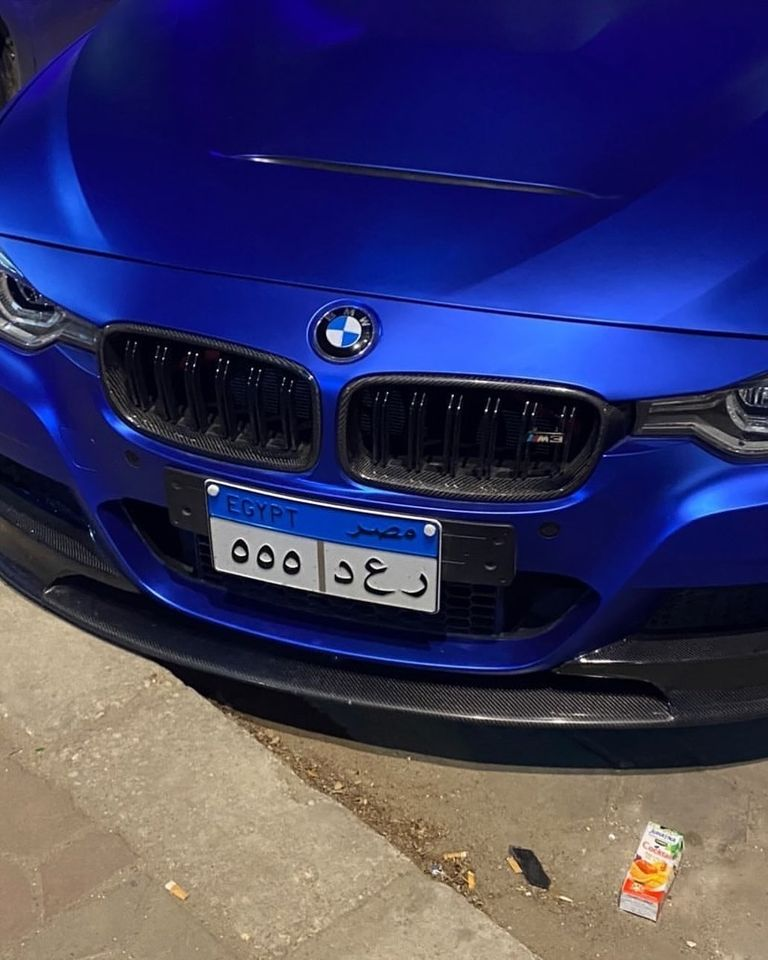carpl: (207, 515, 437, 606)
